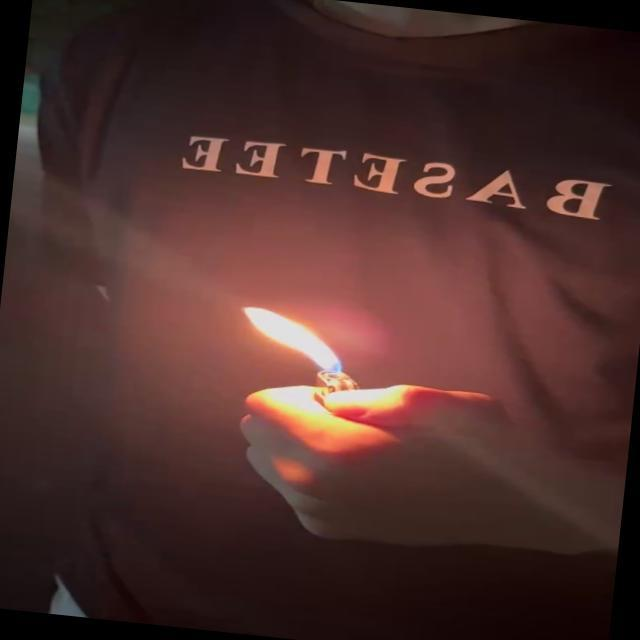Fire: (234, 304, 355, 380)
